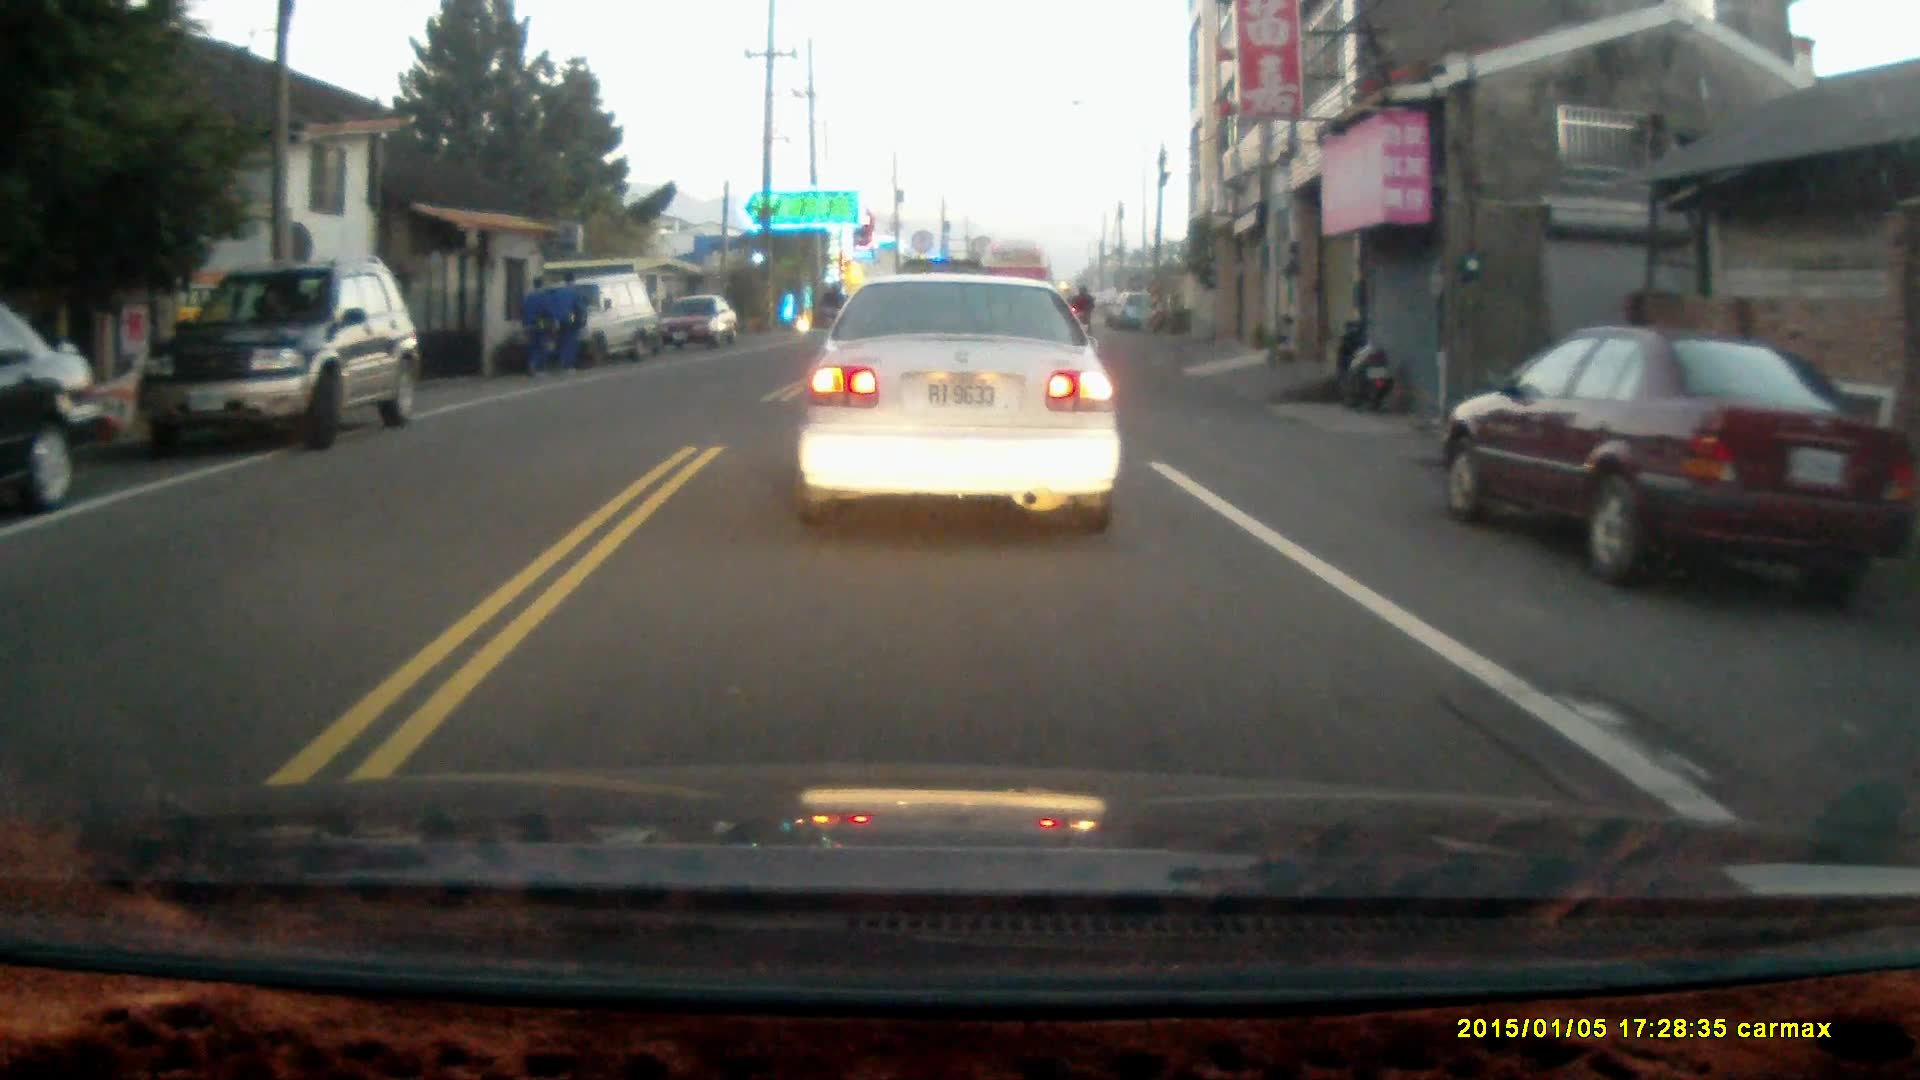pedestrian: (516, 272, 552, 381), (553, 268, 586, 378)
vehicle: (1439, 325, 1914, 592), (797, 274, 1126, 542), (142, 255, 418, 449), (1, 310, 107, 513), (541, 272, 673, 363), (652, 292, 741, 354)
